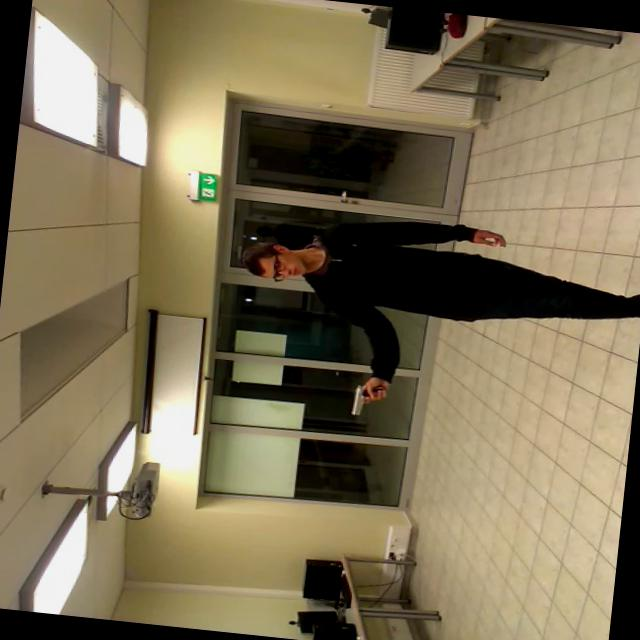handgun: (344, 366, 397, 426)
